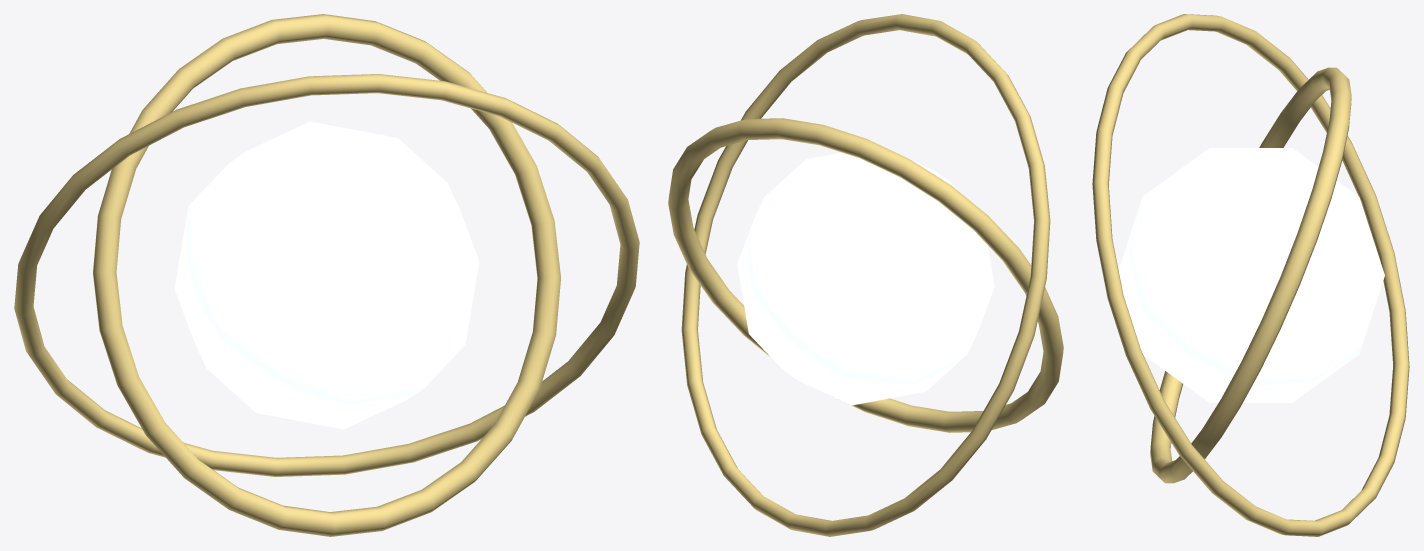
Rendered from tether_orb.glb.
3 views of the same model, side by side, from view 1: azimuth 30°, elevation 25°; view 2: azimuth 150°, elevation 25°; view 3: azimuth 270°, elevation 25° (orthographic). The views are drawn at different scales.
Visible parts, largest first — view 1: PearlCore, HaloA, HaloB; view 2: PearlCore, HaloB, HaloA; view 3: PearlCore, HaloB, HaloA.
Boxes of the visible parts, box(x1,y1,x2,y2) form: PearlCore: box(174, 121, 479, 429); HaloA: box(93, 14, 560, 536); HaloB: box(14, 74, 639, 476); PearlCore: box(737, 152, 994, 405); HaloB: box(681, 14, 1050, 536); HaloA: box(668, 118, 1063, 432); PearlCore: box(1118, 148, 1384, 402); HaloB: box(1092, 14, 1409, 536); HaloA: box(1150, 67, 1351, 483).
Bounding box in the file's own units: 1.68 × 1.63 × 1.06.
